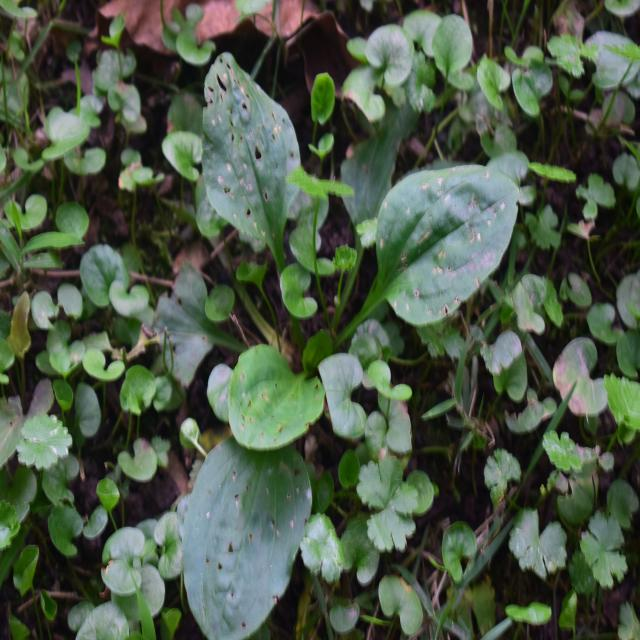plantain: (146, 82, 474, 585)
